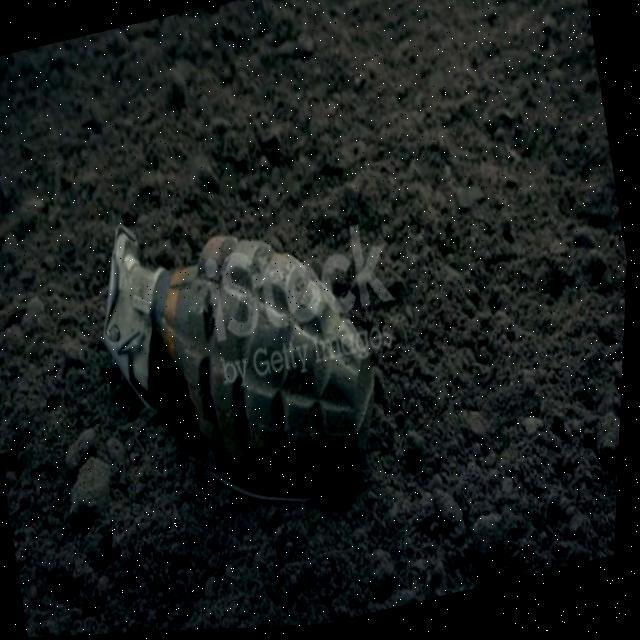grenade: (80, 166, 406, 551)
